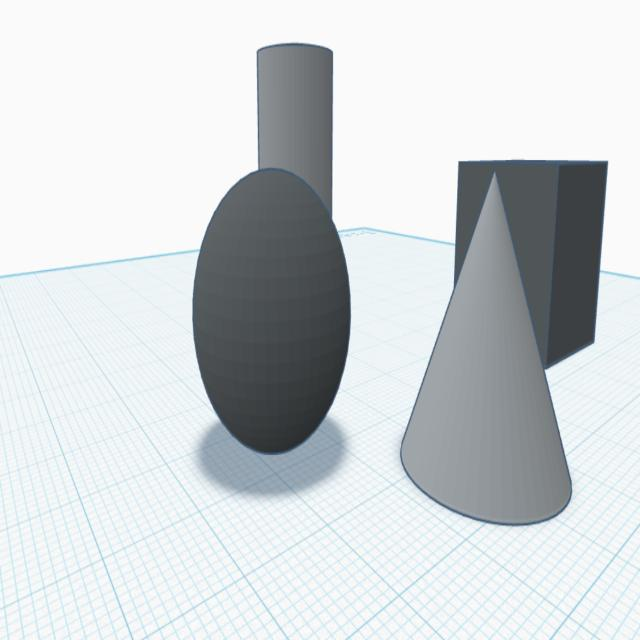cone: (397, 166, 575, 534)
cube: (188, 162, 354, 460)
